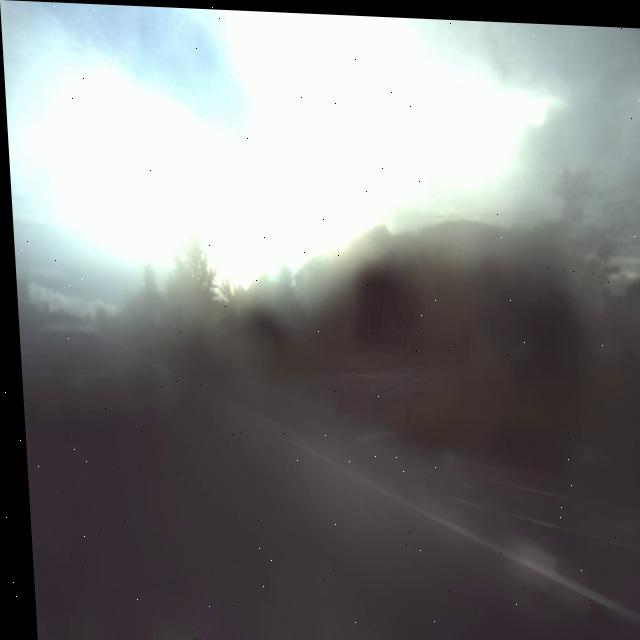car: (34, 308, 110, 432)
